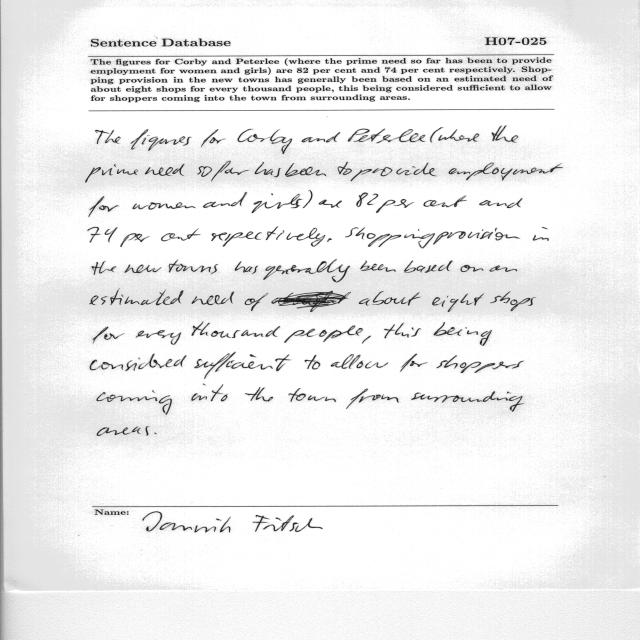word: (194, 352, 291, 379), (211, 226, 325, 247), (411, 391, 524, 412), (263, 259, 350, 283), (449, 163, 563, 181), (345, 228, 435, 249), (97, 391, 172, 415), (271, 291, 351, 312), (90, 354, 186, 371), (436, 355, 524, 373), (351, 163, 437, 181), (284, 325, 363, 343), (192, 322, 280, 338), (90, 290, 183, 305), (433, 228, 520, 244), (434, 322, 492, 346), (238, 129, 292, 154), (131, 129, 191, 151), (348, 129, 425, 144), (346, 389, 399, 409), (86, 164, 138, 183), (252, 194, 302, 213), (432, 294, 484, 312), (490, 291, 536, 311), (359, 291, 420, 306), (331, 354, 388, 369), (211, 162, 249, 182), (169, 260, 218, 275), (203, 192, 247, 208), (136, 330, 181, 345), (288, 388, 336, 402), (404, 260, 453, 273), (89, 196, 119, 217), (191, 384, 228, 401), (285, 163, 326, 177), (384, 324, 421, 339), (192, 292, 234, 305), (438, 129, 479, 142), (376, 199, 414, 213), (97, 426, 149, 436), (93, 327, 125, 343), (161, 229, 200, 242), (401, 354, 428, 372), (145, 164, 185, 176), (424, 196, 467, 207), (492, 125, 518, 143), (201, 129, 226, 147), (133, 203, 196, 210), (479, 198, 523, 208), (88, 227, 117, 242), (120, 233, 150, 247), (245, 387, 273, 402), (245, 293, 268, 311), (255, 162, 282, 177), (360, 261, 396, 272), (302, 132, 340, 142), (96, 130, 121, 144), (92, 262, 116, 275), (356, 193, 378, 207), (235, 261, 258, 274), (125, 265, 162, 273), (305, 355, 320, 370), (533, 227, 549, 241), (430, 127, 443, 143), (490, 265, 517, 272), (319, 200, 342, 208), (338, 162, 352, 175), (303, 190, 313, 208), (197, 166, 212, 177), (461, 265, 483, 272), (362, 336, 371, 344), (327, 238, 332, 242), (155, 433, 157, 434)
